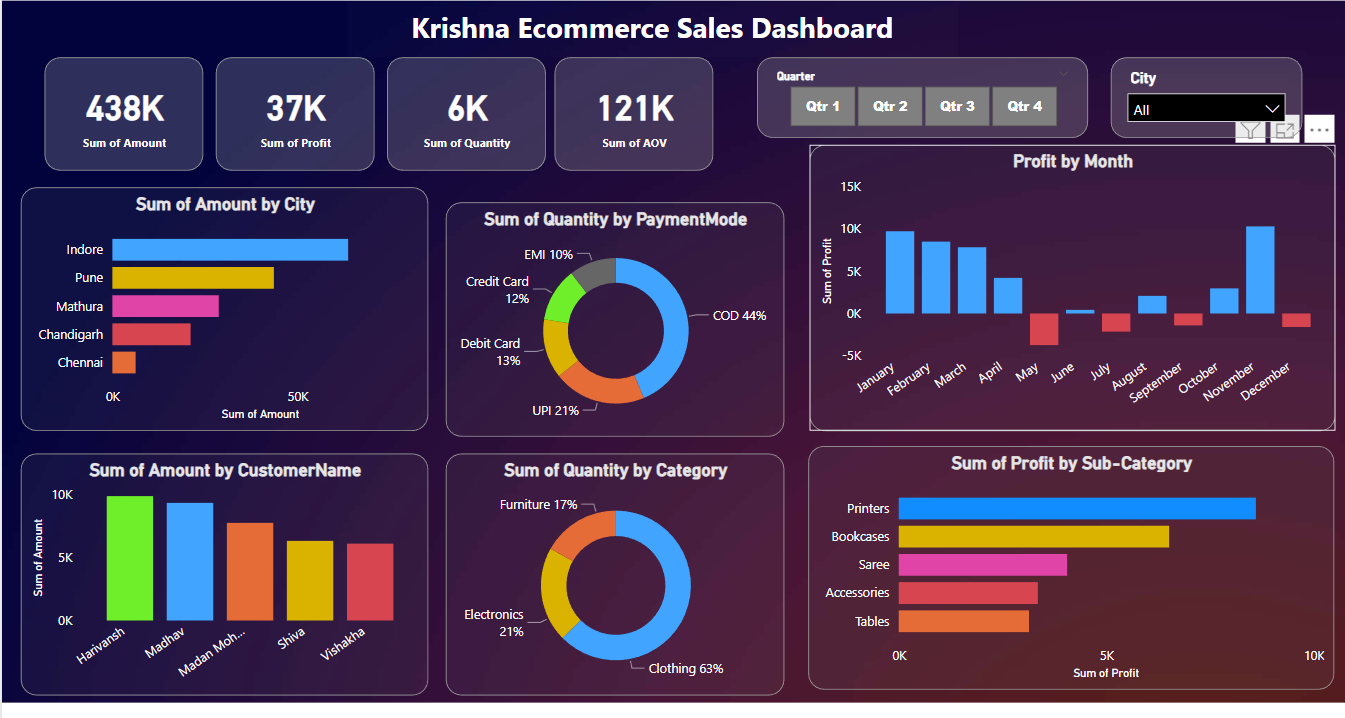

What the dashboard file says about the page in this screenshot:
{"tool":"powerbi","page":{"name":"Page 1","canvas":[1280,720],"ordinal":0},"visuals":[{"type":"textbox","box":[329.1,24.7,581.3,52.1],"z":1},{"type":"columnChart","title":" Profit by Month","fields":{"Y":["Details.Profit"],"Category":["Orders.Order Date.Variation.Date Hierarchy.Month"]},"box":[769.2,160.4,500.4,272.8],"z":2},{"type":"barChart","fields":{"Category":["Details.Sub-Category"],"Y":["Details.Profit"]},"box":[767.8,447,500.4,231.7],"z":3},{"type":"donutChart","fields":{"Category":["Details.Category"],"Y":["Details.Quantity"]},"box":[422.3,455.2,322.2,230.3],"z":4},{"type":"donutChart","fields":{"Category":["Details.PaymentMode"],"Y":["Details.Quantity"]},"box":[422.3,215.3,322.2,223.5],"z":5},{"type":"barChart","fields":{"Category":["Orders.City"],"Y":["Details.Amount"]},"box":[17.8,201.5,388,231.7],"z":6},{"type":"cardVisual","fields":{"Data":["Details.Amount"]},"box":[40.5,77.4,151.1,108.3],"z":7},{"type":"cardVisual","fields":{"Data":["Details.Profit"]},"box":[203.5,77.4,151.1,108.3],"z":8},{"type":"cardVisual","fields":{"Data":["Details.Quantity"]},"box":[366.5,77.4,151.1,108.3],"z":9},{"type":"cardVisual","fields":{"Data":["Details.AOV"]},"box":[526,77.4,151.1,108.3],"z":10},{"type":"columnChart","fields":{"Category":["Orders.CustomerName"],"Y":["Details.Amount"]},"box":[17.8,455.2,388,230.3],"z":11},{"type":"slicer","fields":{"Values":["Orders.Order Date.Variation.Date Hierarchy.Quarter"]},"box":[718.4,76.8,315.3,76.8],"z":12},{"type":"slicer","fields":{"Values":["Orders.City"]},"box":[1055.7,76.8,182.3,76.8],"z":13}]}

Visuals, with their boxes on the page's 1280x720 design canvas (x1, y1, x2, y2). These are canvas units, not pixel positions in the 1345x718 screenshot, which may show the page scaled, cropped or inside an application window:
textbox: region(329, 25, 910, 77)
" Profit by Month" columnChart: region(769, 160, 1270, 433)
barChart - Details.Sub-Category x Details.Profit: region(768, 447, 1268, 679)
donutChart - Details.Category x Details.Quantity: region(422, 455, 744, 686)
donutChart - Details.PaymentMode x Details.Quantity: region(422, 215, 744, 439)
barChart - Orders.City x Details.Amount: region(18, 202, 406, 433)
cardVisual - Details.Amount: region(40, 77, 192, 186)
cardVisual - Details.Profit: region(204, 77, 355, 186)
cardVisual - Details.Quantity: region(366, 77, 518, 186)
cardVisual - Details.AOV: region(526, 77, 677, 186)
columnChart - Orders.CustomerName x Details.Amount: region(18, 455, 406, 686)
slicer - Orders.Order Date.Variation.Date Hierarchy.Quarter: region(718, 77, 1034, 154)
slicer - Orders.City: region(1056, 77, 1238, 154)
